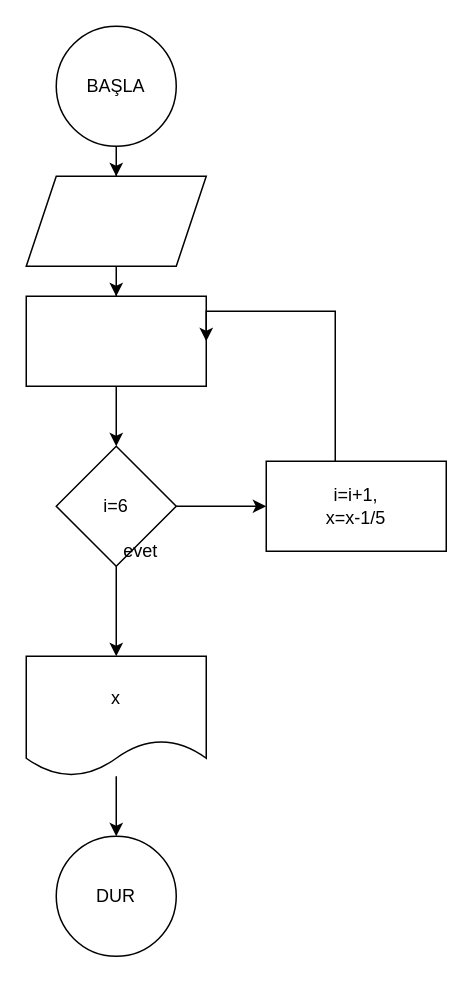
This 473x983 diagram has some shape labels left out. Here are the shapes that lost their labels. From the top down, the centre of each, then its label:
At [115,220]: "x=1000000".
At [115,340]: "x-1000000*1/5".
